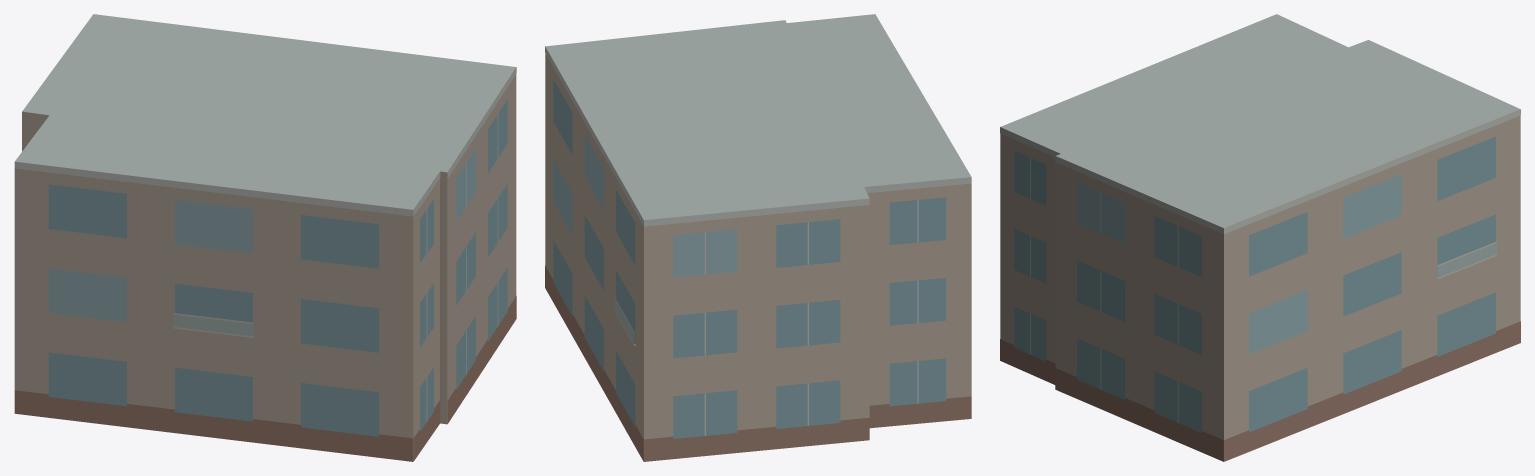
Rendered from survey-upis-32772936.glb.
3 renders of one model, left to right at view 1: azimuth 30°, elevation 25°; view 2: azimuth 150°, elevation 25°; view 3: azimuth 270°, elevation 25°, orthographic. The views are drawn at different scales.
Parts seen in each view (by area): view 1: survey-upis-32772936.tmp; view 2: survey-upis-32772936.tmp; view 3: survey-upis-32772936.tmp.
Boxes of the visible parts, box(x1,y1,x2,y2) form: survey-upis-32772936.tmp: box(14, 14, 516, 461); survey-upis-32772936.tmp: box(545, 14, 971, 461); survey-upis-32772936.tmp: box(1000, 14, 1520, 461).
Bounding box in the file's own units: 17.99 × 9.15 × 18.48.
